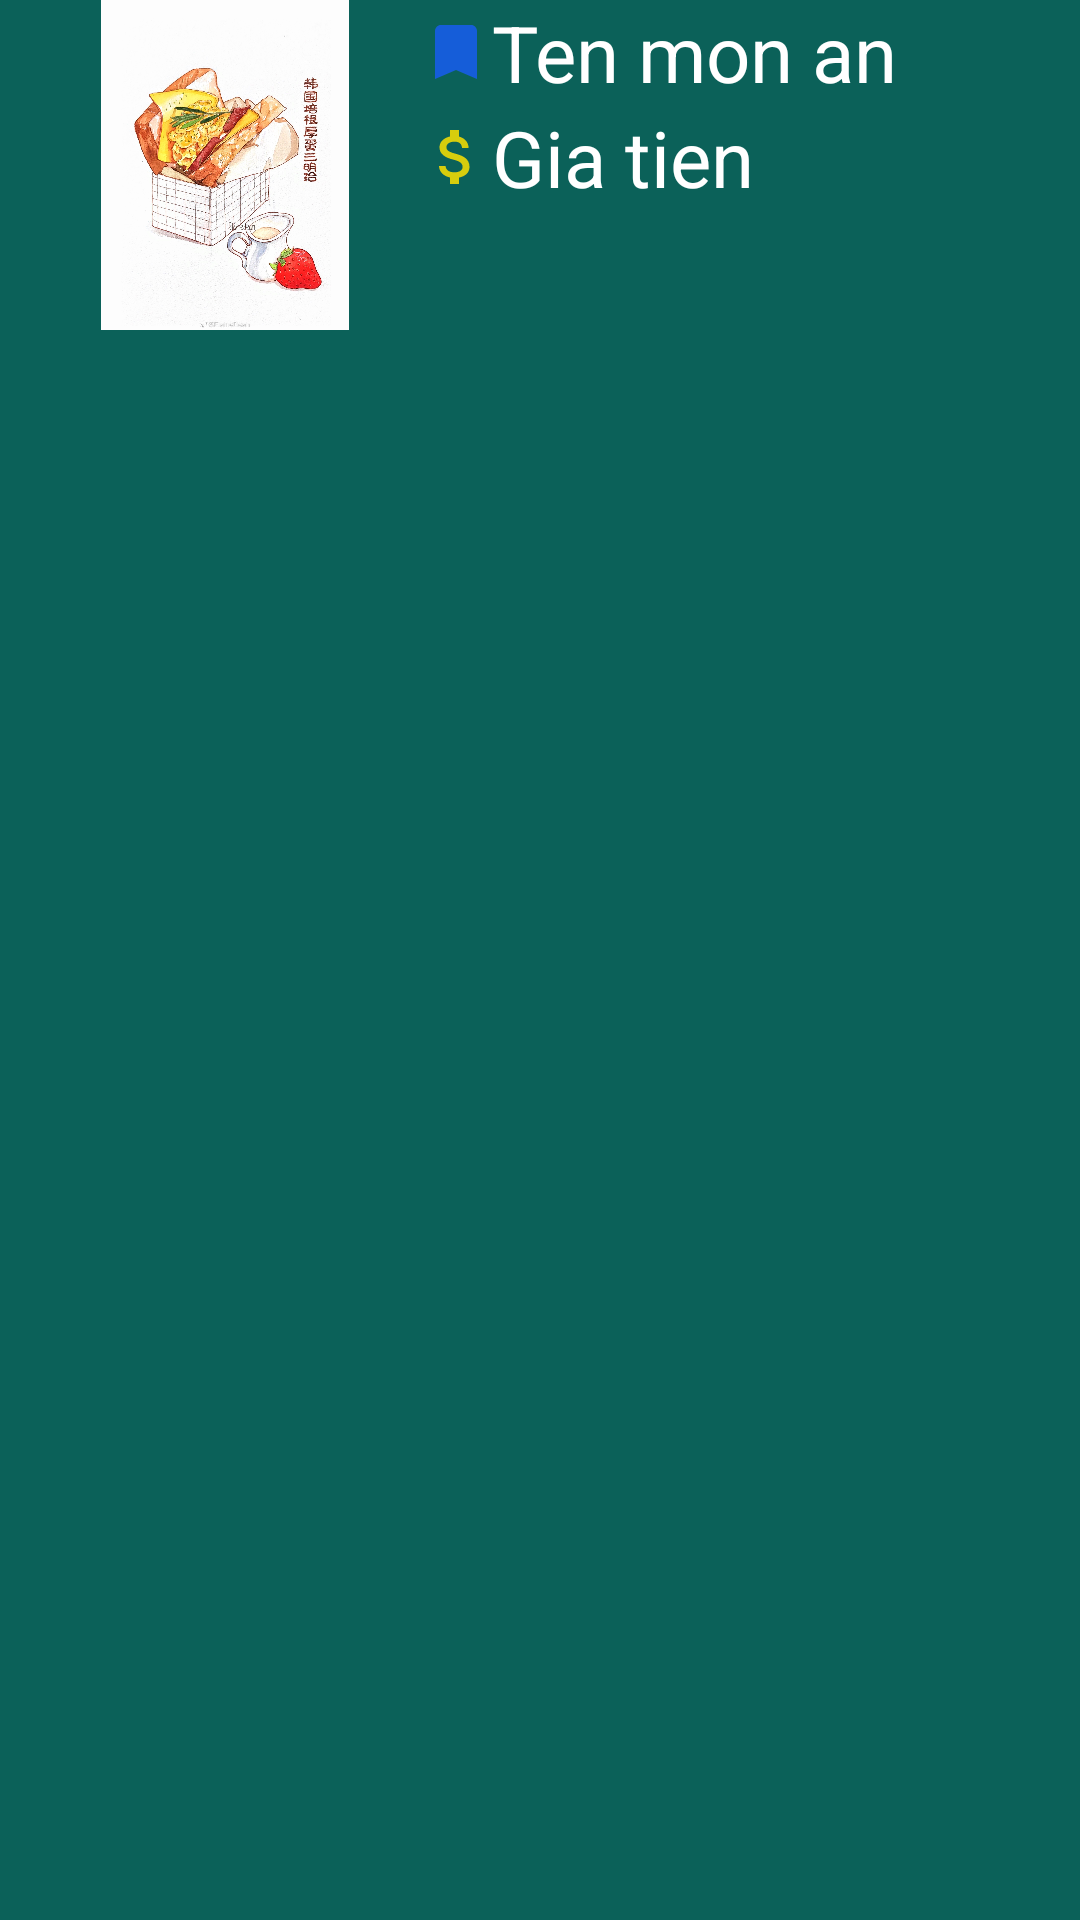

Named icons in this screenshot (1080px x 1920px) and their centers, (x=x, y=y):
anh nen load: (x=225, y=165)
